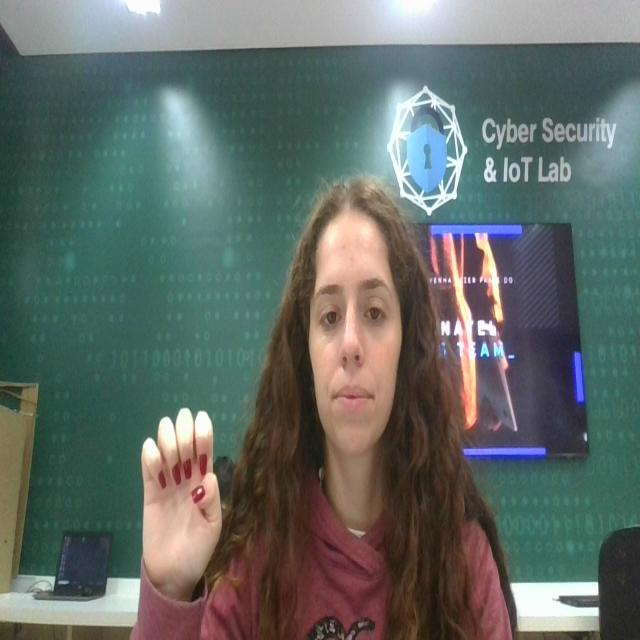E: (134, 402, 224, 598)
